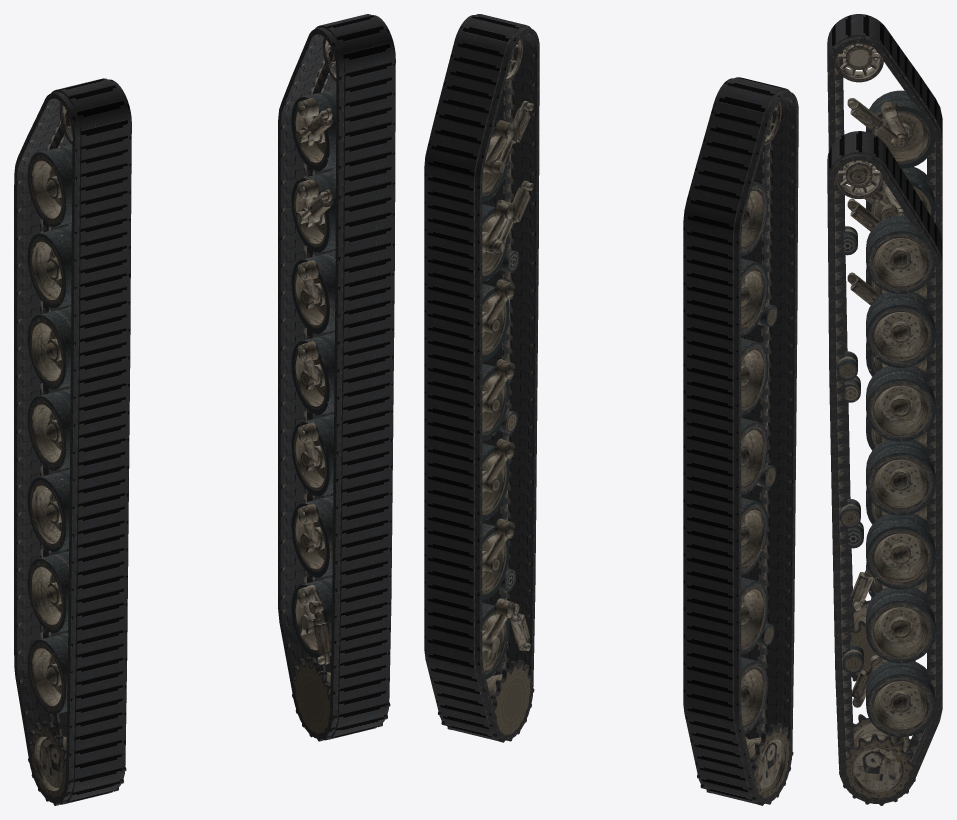
Rendered from Chassis.glb.
3 views of the same model, side by side, from view 1: azimuth 30°, elevation 25°; view 2: azimuth 150°, elevation 25°; view 3: azimuth 270°, elevation 25° (orthographic). The views are drawn at different scales.
Visible parts, largest first — view 1: set_0_group_0, set_1_group_0, set_3_group_0, set_2_group_0; view 2: set_0_group_0, set_1_group_0, set_3_group_0, set_2_group_0; view 3: set_3_group_0, set_1_group_0, set_2_group_0, set_0_group_0.
Part boxes in pixels (x1,y1,x2,y2): set_0_group_0: (14,78,131,804); set_1_group_0: (278,14,395,740); set_3_group_0: (291,37,390,741); set_2_group_0: (27,103,126,805); set_0_group_0: (683,77,798,804); set_1_group_0: (424,14,539,741); set_3_group_0: (438,37,534,742); set_2_group_0: (697,101,793,805); set_3_group_0: (834,160,935,805); set_1_group_0: (827,131,942,803); set_2_group_0: (834,43,935,681); set_0_group_0: (827,14,942,680).
Bounding box in the file's own units: 3.39 × 7.24 × 1.16.
4 materials, 4 textured.
